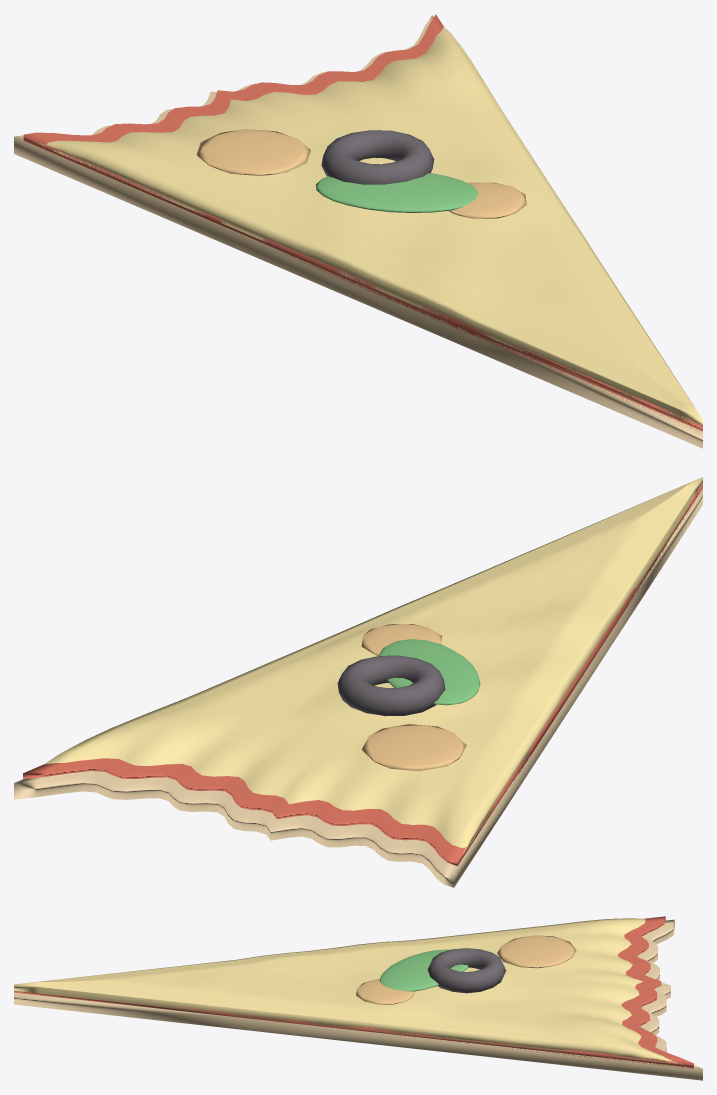
Rendered from EatsaPizzaSlice3.glb.
3 renders of one model, top to bottom at view 1: azimuth 30°, elevation 25°; view 2: azimuth 150°, elevation 25°; view 3: azimuth 270°, elevation 25°, orthographic. The views are drawn at different scales.
Parts seen in each view (by area): view 1: Cheese, Dough, Sauce, Toasty, Olives, Basil; view 2: Cheese, Dough, Sauce, Toasty, Olives, Basil; view 3: Cheese, Dough, Sauce, Toasty, Olives, Basil.
Boxes of the visible parts, box(x1,y1,x2,y2) form: Cheese: box(36, 27, 702, 428); Dough: box(14, 15, 702, 448); Sauce: box(23, 14, 702, 431); Toasty: box(196, 129, 526, 218); Olives: box(321, 130, 434, 184); Basil: box(315, 173, 478, 212); Cheese: box(44, 477, 702, 855); Dough: box(14, 489, 702, 887); Sauce: box(23, 483, 702, 865); Toasty: box(361, 624, 466, 771); Olives: box(337, 655, 445, 716); Basil: box(379, 639, 480, 705); Cheese: box(14, 918, 681, 1064); Dough: box(14, 919, 702, 1080); Sauce: box(14, 916, 693, 1069); Toasty: box(356, 935, 576, 1004); Olives: box(427, 948, 506, 993); Basil: box(379, 949, 468, 991).
Bounding box in the file's own units: 3.74 × 0.515 × 7.31.
